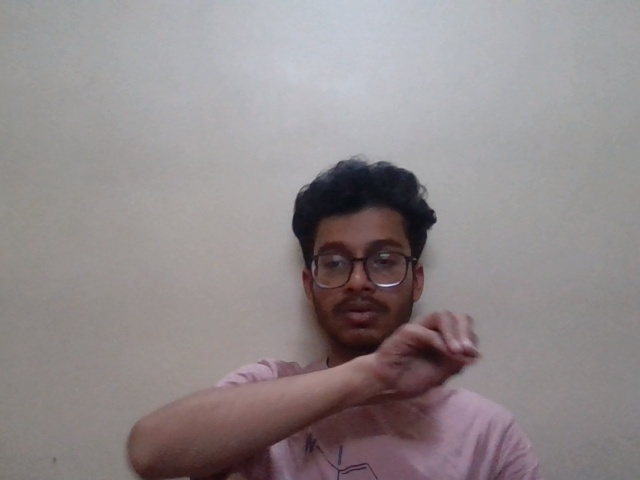talk: (376, 298, 487, 409)
